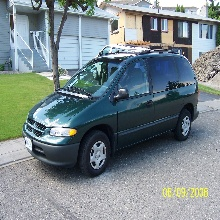no damage: (23, 53, 199, 177)
